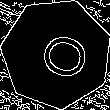O_W: (25, 24, 88, 83)
